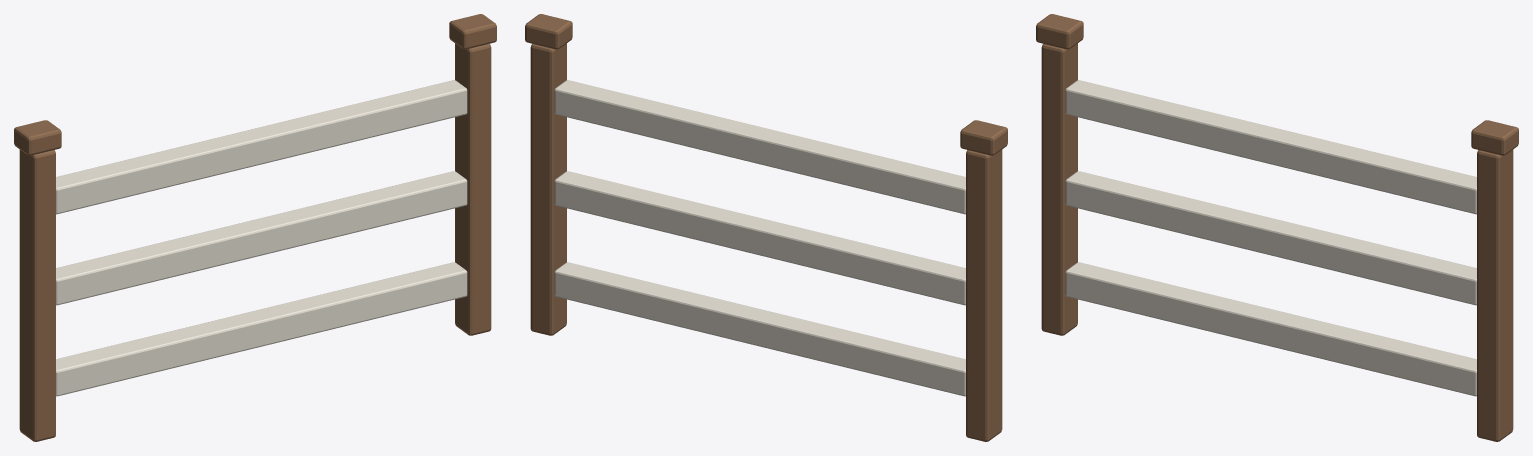
File: fence_05.glb
The picture shows the model from 3 angles, left to right: view 1: azimuth 30°, elevation 25°; view 2: azimuth 150°, elevation 25°; view 3: azimuth 330°, elevation 25°; orthographic projection.
Visible parts, largest first — view 1: Tint, Fence post, Fence post.001, Post cap.001, Post cap; view 2: Tint, Fence post, Fence post.001, Post cap.001, Post cap; view 3: Tint, Fence post.001, Fence post, Post cap, Post cap.001.
Part boxes in pixels (bbox=[...]): Tint: bbox=[56, 80, 467, 396]; Fence post: bbox=[19, 149, 55, 441]; Fence post.001: bbox=[455, 43, 491, 335]; Post cap.001: bbox=[449, 14, 496, 49]; Post cap: bbox=[14, 120, 61, 155]; Tint: bbox=[554, 80, 965, 396]; Fence post: bbox=[966, 149, 1002, 441]; Fence post.001: bbox=[530, 43, 566, 335]; Post cap.001: bbox=[525, 14, 572, 49]; Post cap: bbox=[960, 120, 1007, 155]; Tint: bbox=[1065, 80, 1476, 396]; Fence post.001: bbox=[1477, 149, 1513, 441]; Fence post: bbox=[1041, 43, 1077, 335]; Post cap: bbox=[1036, 14, 1083, 49]; Post cap.001: bbox=[1471, 120, 1518, 155].
Bounding box in the file's own units: 2.05 × 1.28 × 0.12.
